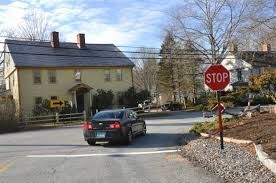stop_sign: (204, 64, 230, 91)
